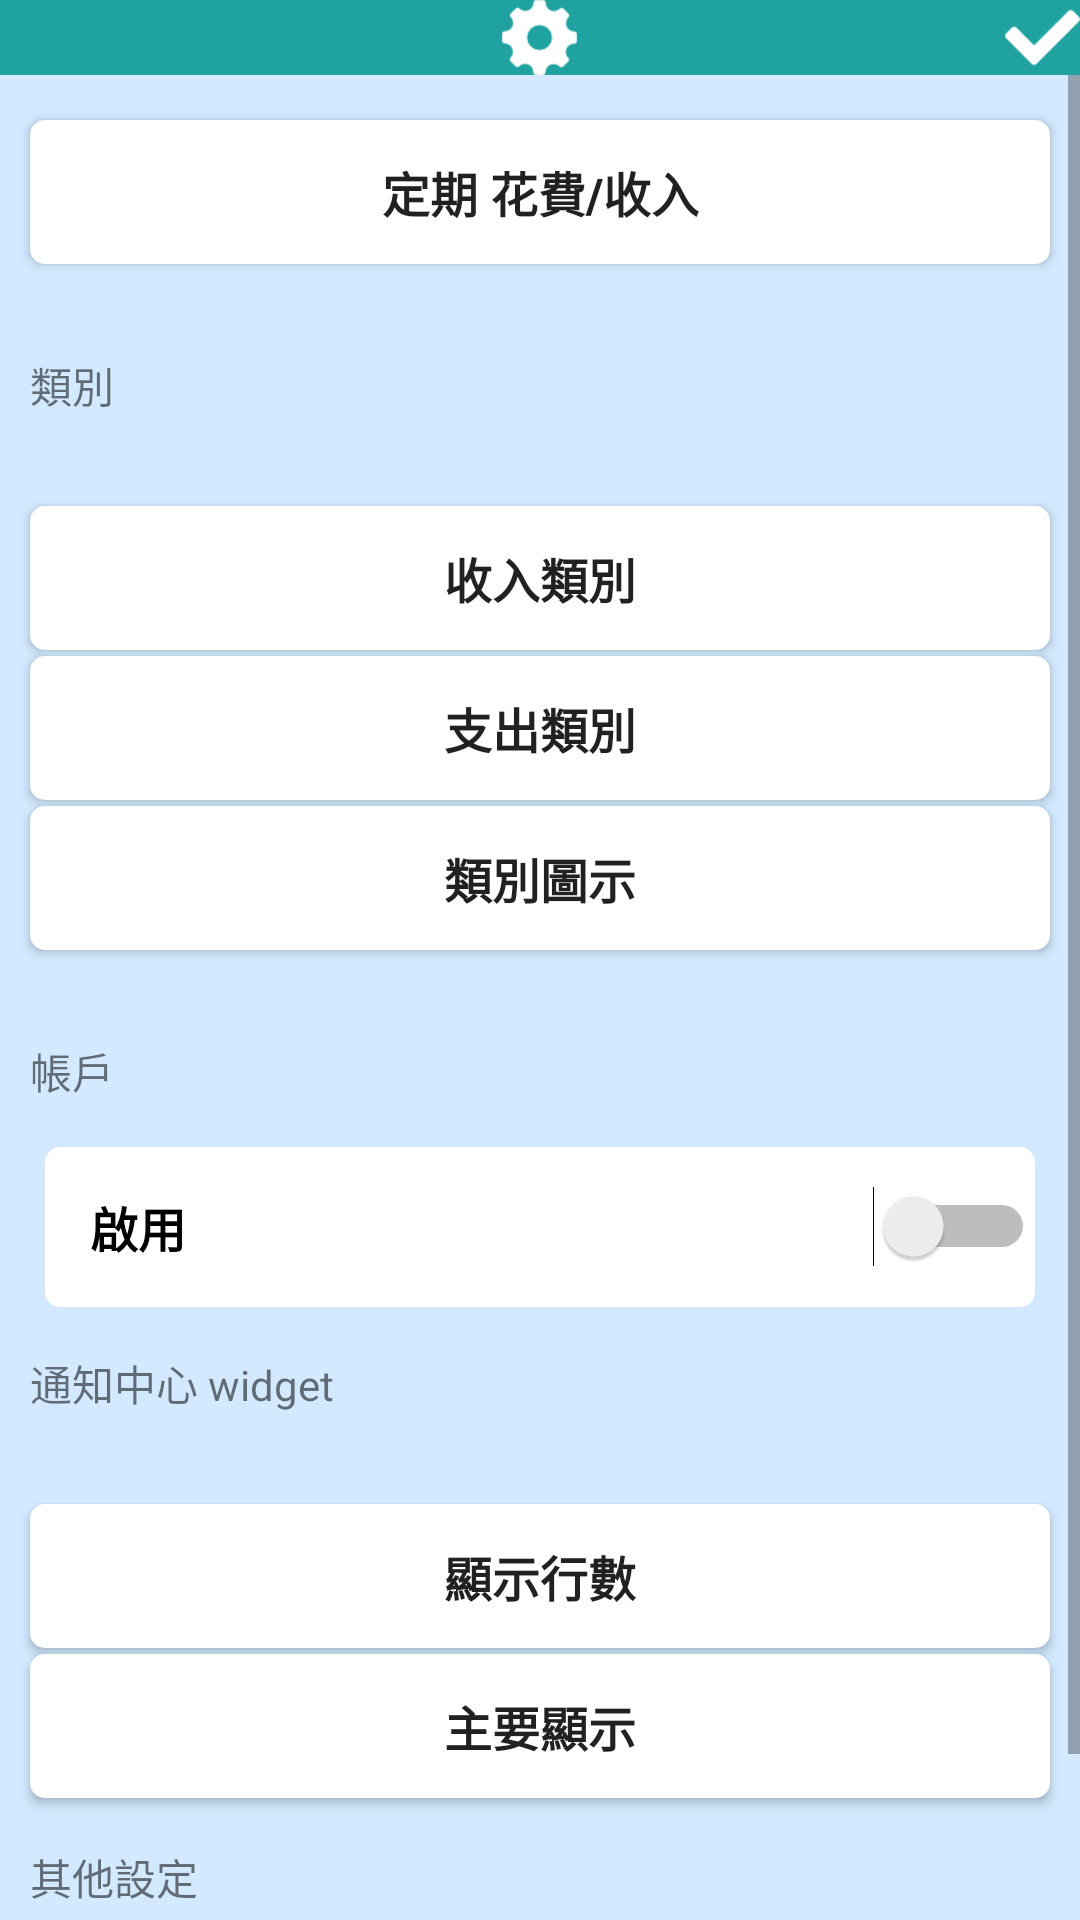

Named icons in this screenshot (1080×1920) and their centers, [x,y]:
confirm: [1042,37]
tools: [539,37]
